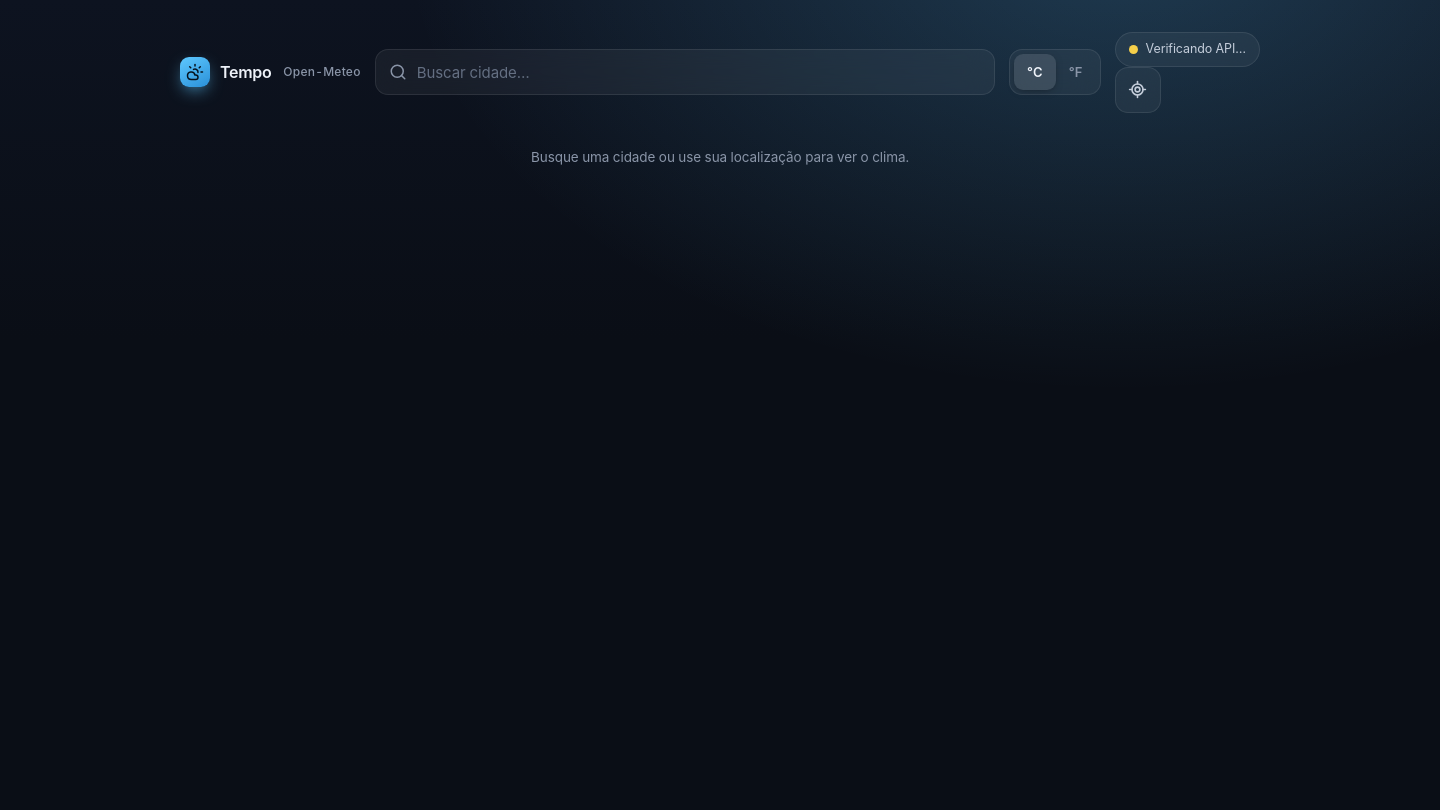
it: WeatherDashboardPage › #13 shows a retry toast on network error and reloads on retry
Type "London" into the dropdown at (699, 72), box [417, 50, 981, 94]
Wait 240 ms
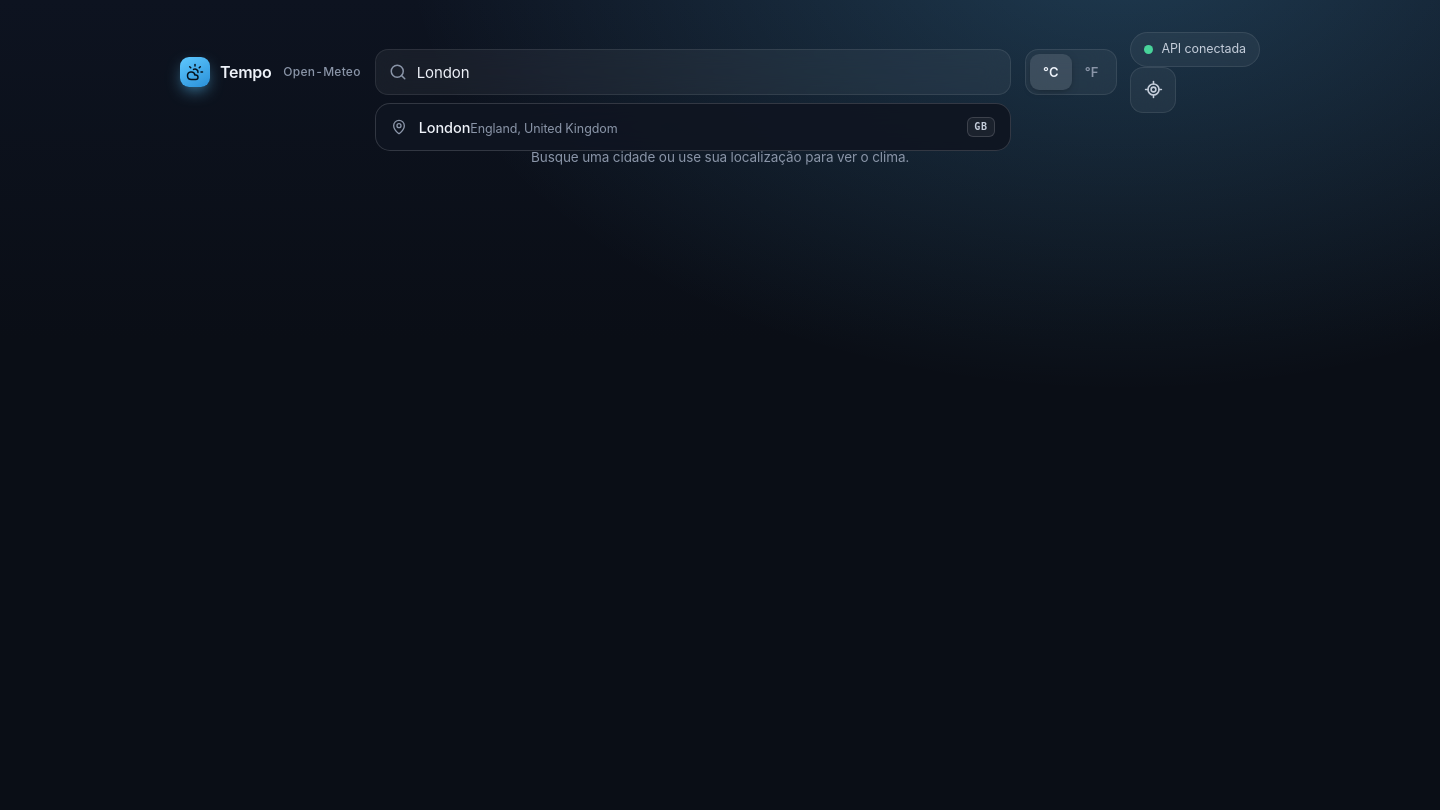
Press the mouse on the option at (444, 128), box [376, 104, 1010, 150]
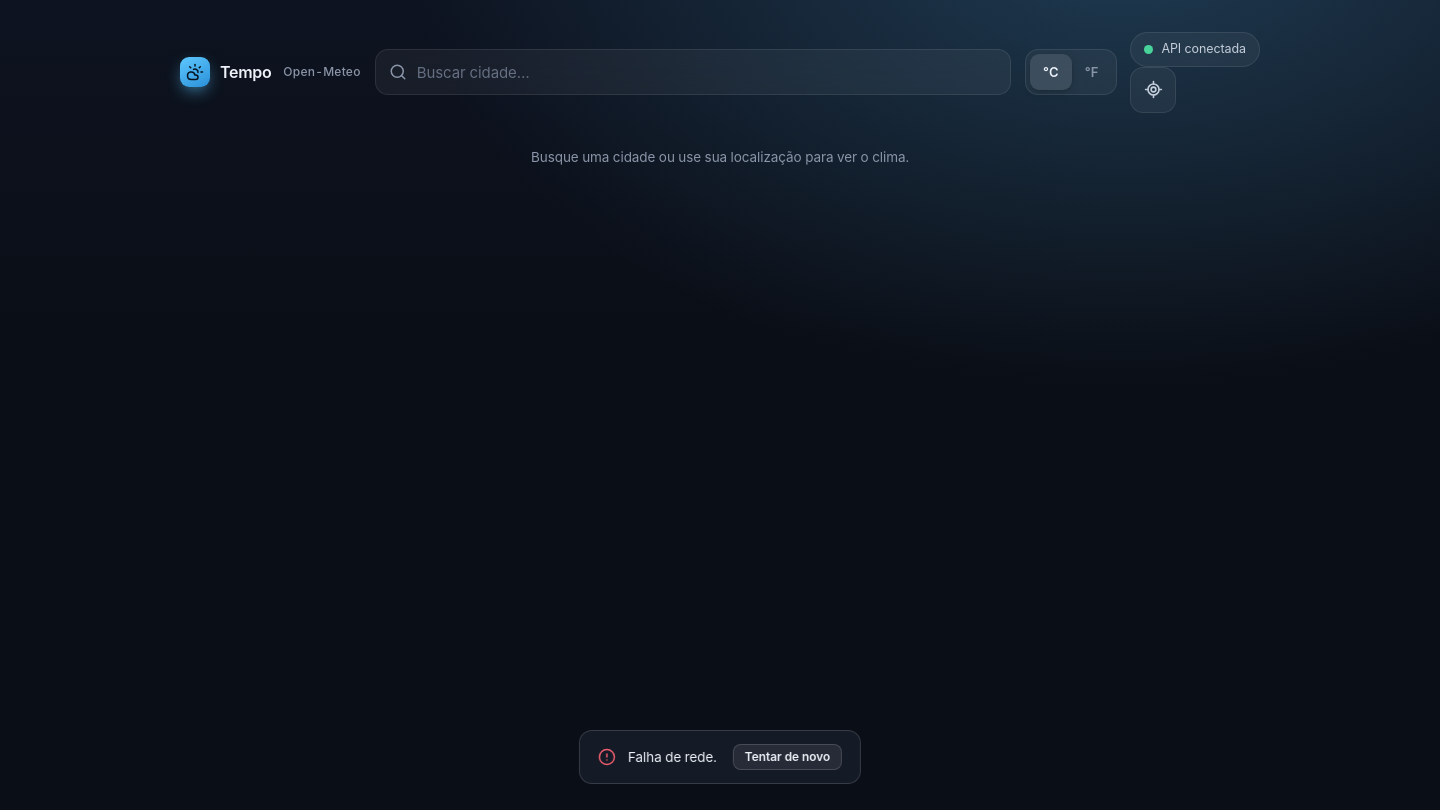
Check: the message "Falha de rede. Tentar de novo" is shown, box [579, 730, 861, 784]
Click the button "Tentar de novo" at (787, 757), box [733, 744, 842, 770]
(page scrolled)
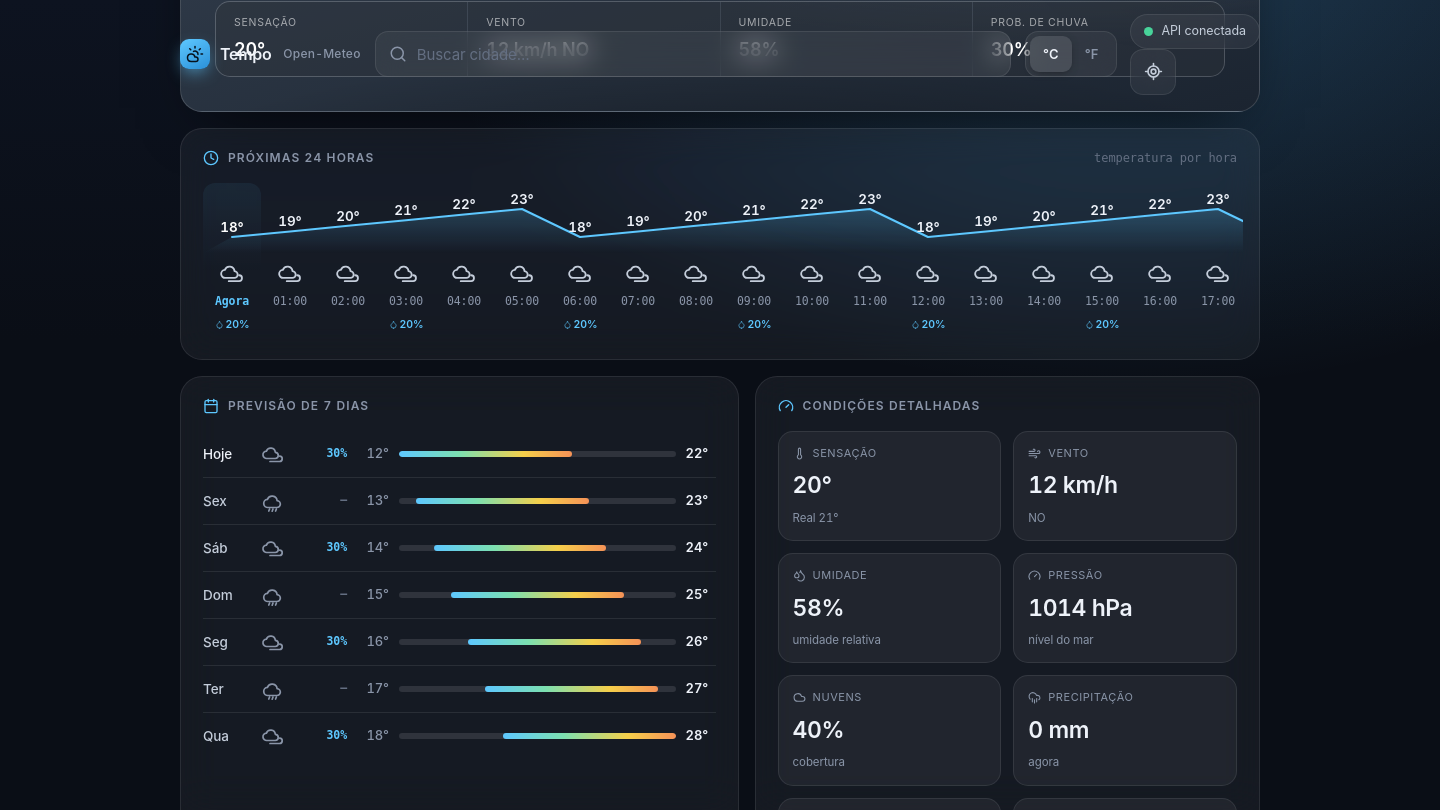
Check: the heading "Previsão de 7 dias" is shown, box [228, 397, 369, 415]
